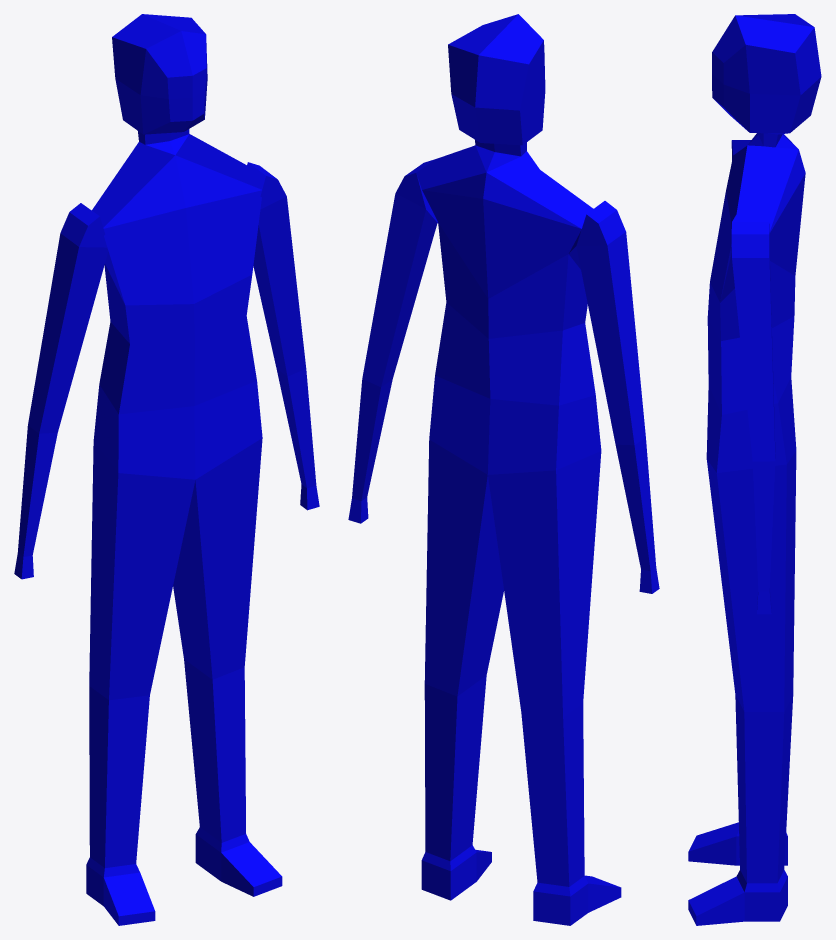
Rendered from blue_hooman.fbx.
3 views of the same model, side by side, from view 1: azimuth 30°, elevation 25°; view 2: azimuth 150°, elevation 25°; view 3: azimuth 270°, elevation 25° (orthographic).
Parts seen in each view (by area): view 1: Cube; view 2: Cube; view 3: Cube.
Boxes of the visible parts, x1,y1,x2,y2 form: Cube: (14,14,319,925); Cube: (348,14,659,925); Cube: (688,14,821,925).
Size of the model in its own units: 221 by 609 by 84.37.
